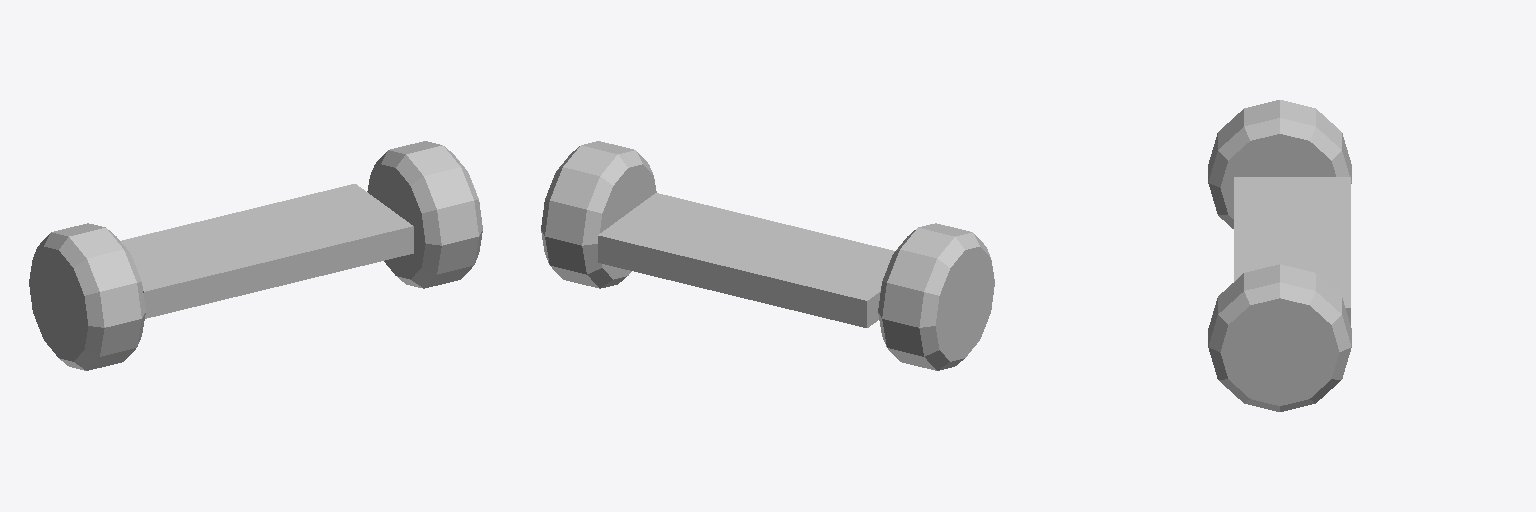
Rendered from player_hover_board.obj.
3 views of the same model, side by side, from view 1: azimuth 30°, elevation 25°; view 2: azimuth 150°, elevation 25°; view 3: azimuth 270°, elevation 25° (orthographic).
Visible parts, largest first — view 1: Cube_Cube.005; view 2: Cube_Cube.005; view 3: Cube_Cube.005.
Boxes of the visible parts, box(x1,y1,x2,y2) form: Cube_Cube.005: box(29, 141, 482, 370); Cube_Cube.005: box(541, 141, 994, 370); Cube_Cube.005: box(1208, 100, 1351, 411).
Size of the model in its own units: 1.45 by 0.4557 by 0.4557.